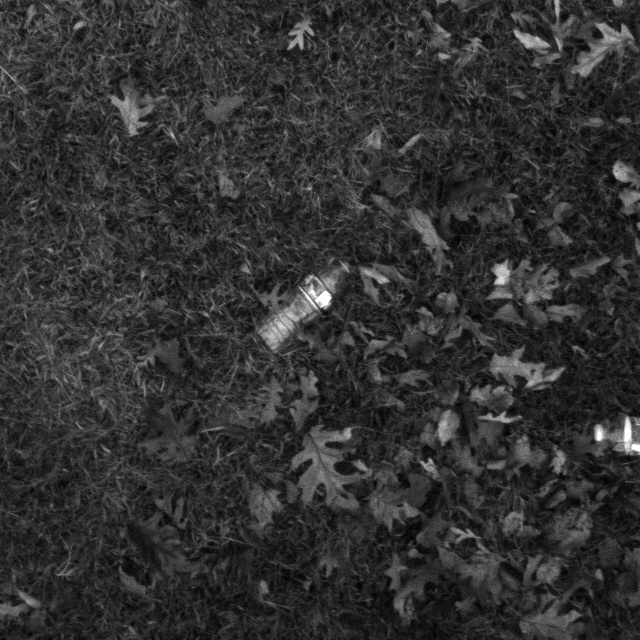bottle: (237, 250, 368, 355), (587, 406, 640, 476)
